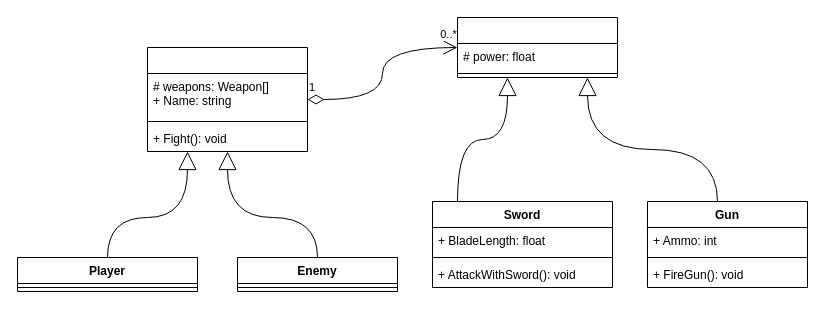
The diagram is 825 pixels wide and 309 high, and some of its shapes have lost their labels. Here are the shapes that lost their labels. From the top down, the box of each, then its label:
(456, 16, 618, 78): Weapon
(146, 46, 308, 152): Character
